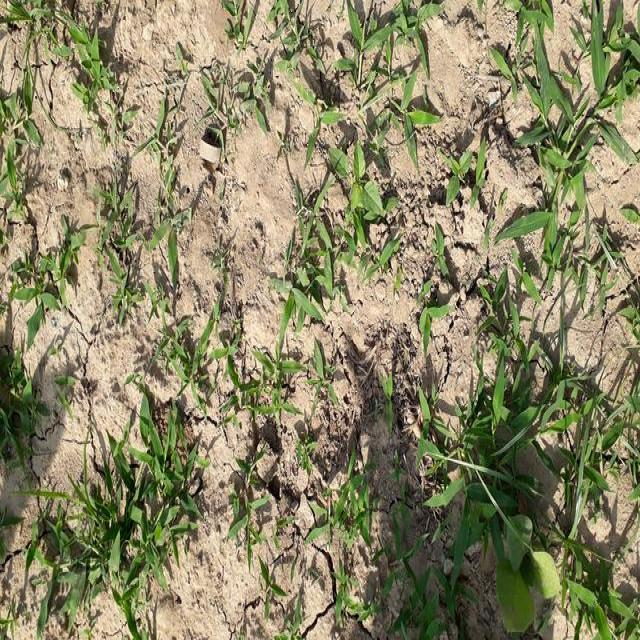weed: (416, 336, 640, 640), (480, 3, 640, 288), (25, 382, 202, 632), (286, 19, 416, 308), (0, 0, 140, 168)
